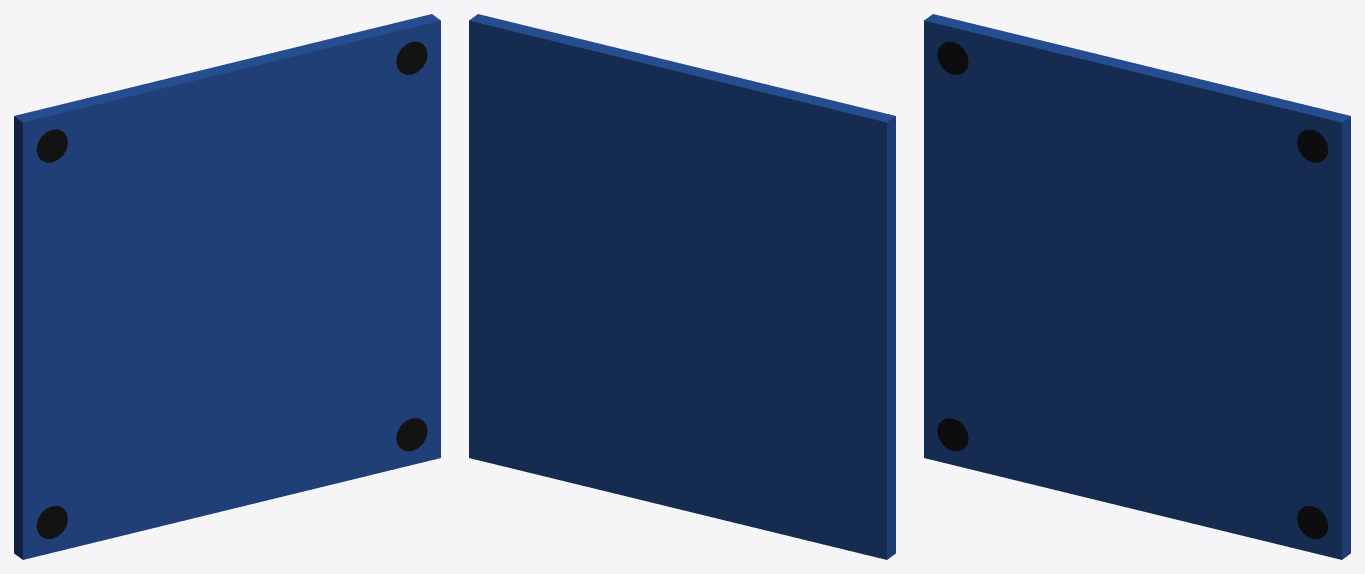
File: mod-l298n.glb
The picture shows the model from 3 angles, left to right: view 1: azimuth 30°, elevation 25°; view 2: azimuth 150°, elevation 25°; view 3: azimuth 330°, elevation 25°; orthographic projection.
Parts seen in each view (by area): view 1: PCB-MOTOR, HOLE (×4); view 2: PCB-MOTOR; view 3: PCB-MOTOR, HOLE (×4).
Part boxes in pixels (x1,y1,x2,y2): PCB-MOTOR: [14, 14, 440, 559]; HOLE (×4): [36, 41, 427, 538]; PCB-MOTOR: [469, 14, 895, 559]; PCB-MOTOR: [924, 14, 1350, 559]; HOLE (×4): [937, 41, 1328, 538].
Bounding box in the file's own units: 43 × 43 × 1.65.
